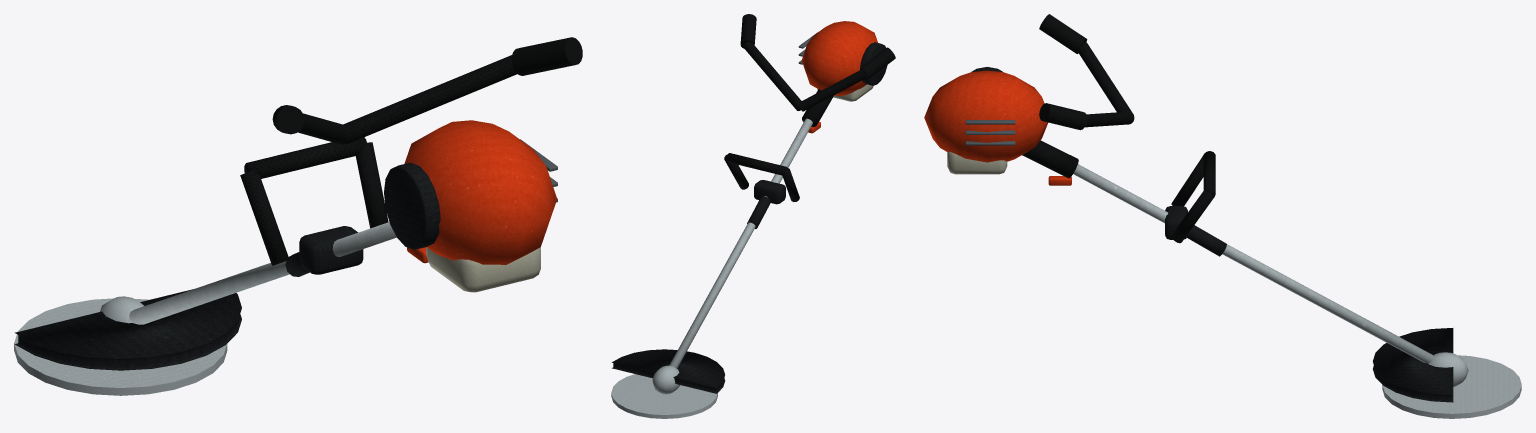
The model's file is Brushcutter.gltf.
The picture shows the model from 3 angles, left to right: view 1: azimuth 30°, elevation 25°; view 2: azimuth 150°, elevation 25°; view 3: azimuth 270°, elevation 25°; orthographic projection. The views are drawn at different scales.
Visible parts, largest first — view 1: Brushcutter__Body, Brushcutter__CutterRotor; view 2: Brushcutter__Body, Brushcutter__CutterRotor; view 3: Brushcutter__Body, Brushcutter__CutterRotor.
Part boxes in pixels (x1,y1,x2,y2): Brushcutter__Body: (14,37,582,370); Brushcutter__CutterRotor: (14,298,227,395); Brushcutter__Body: (611,14,895,394); Brushcutter__CutterRotor: (611,374,717,418); Brushcutter__Body: (924,14,1468,402); Brushcutter__CutterRotor: (1382,355,1521,418).
Size of the model in its own units: 0.6942 by 1.1 by 1.8.
Materials: 2 (2 with a texture image).
